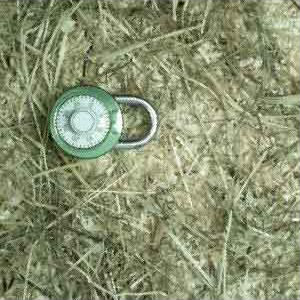lock: (46, 84, 157, 158)
